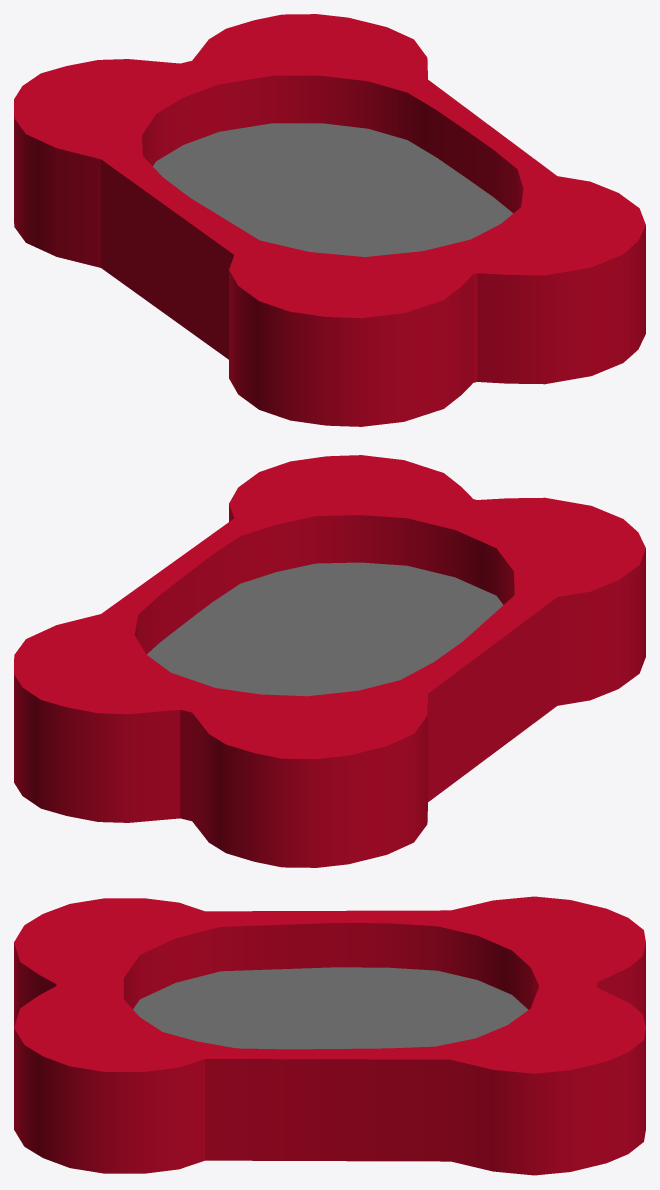
Rendered from clicker.obj.
3 renders of one model, top to bottom at view 1: azimuth 30°, elevation 25°; view 2: azimuth 150°, elevation 25°; view 3: azimuth 270°, elevation 25°, orthographic. The views are drawn at different scales.
Parts seen in each view (by area): view 1: Plane.006; view 2: Plane.006; view 3: Plane.006.
Boxes of the visible parts, <box> form: Plane.006: <box>14,14,645,426</box>; Plane.006: <box>14,455,645,867</box>; Plane.006: <box>14,896,645,1175</box>.
Size of the model in its own units: 1.68 by 0.449 by 2.53.
